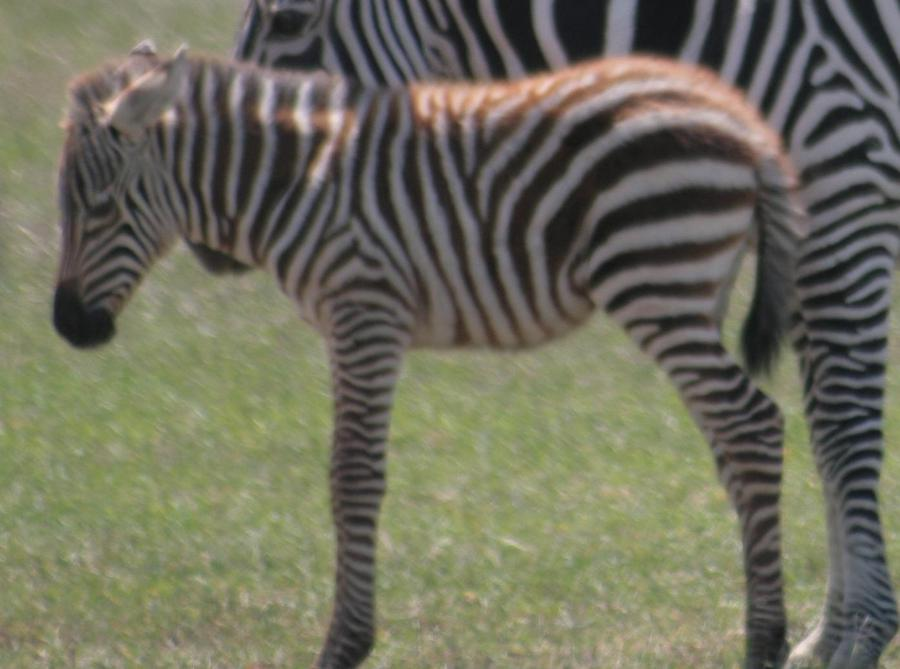zebra_plains: (236, 59, 786, 383)
